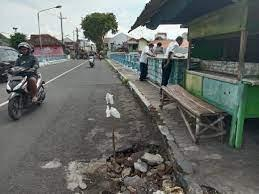Pothole: (99, 140, 189, 194), (202, 178, 222, 194)
